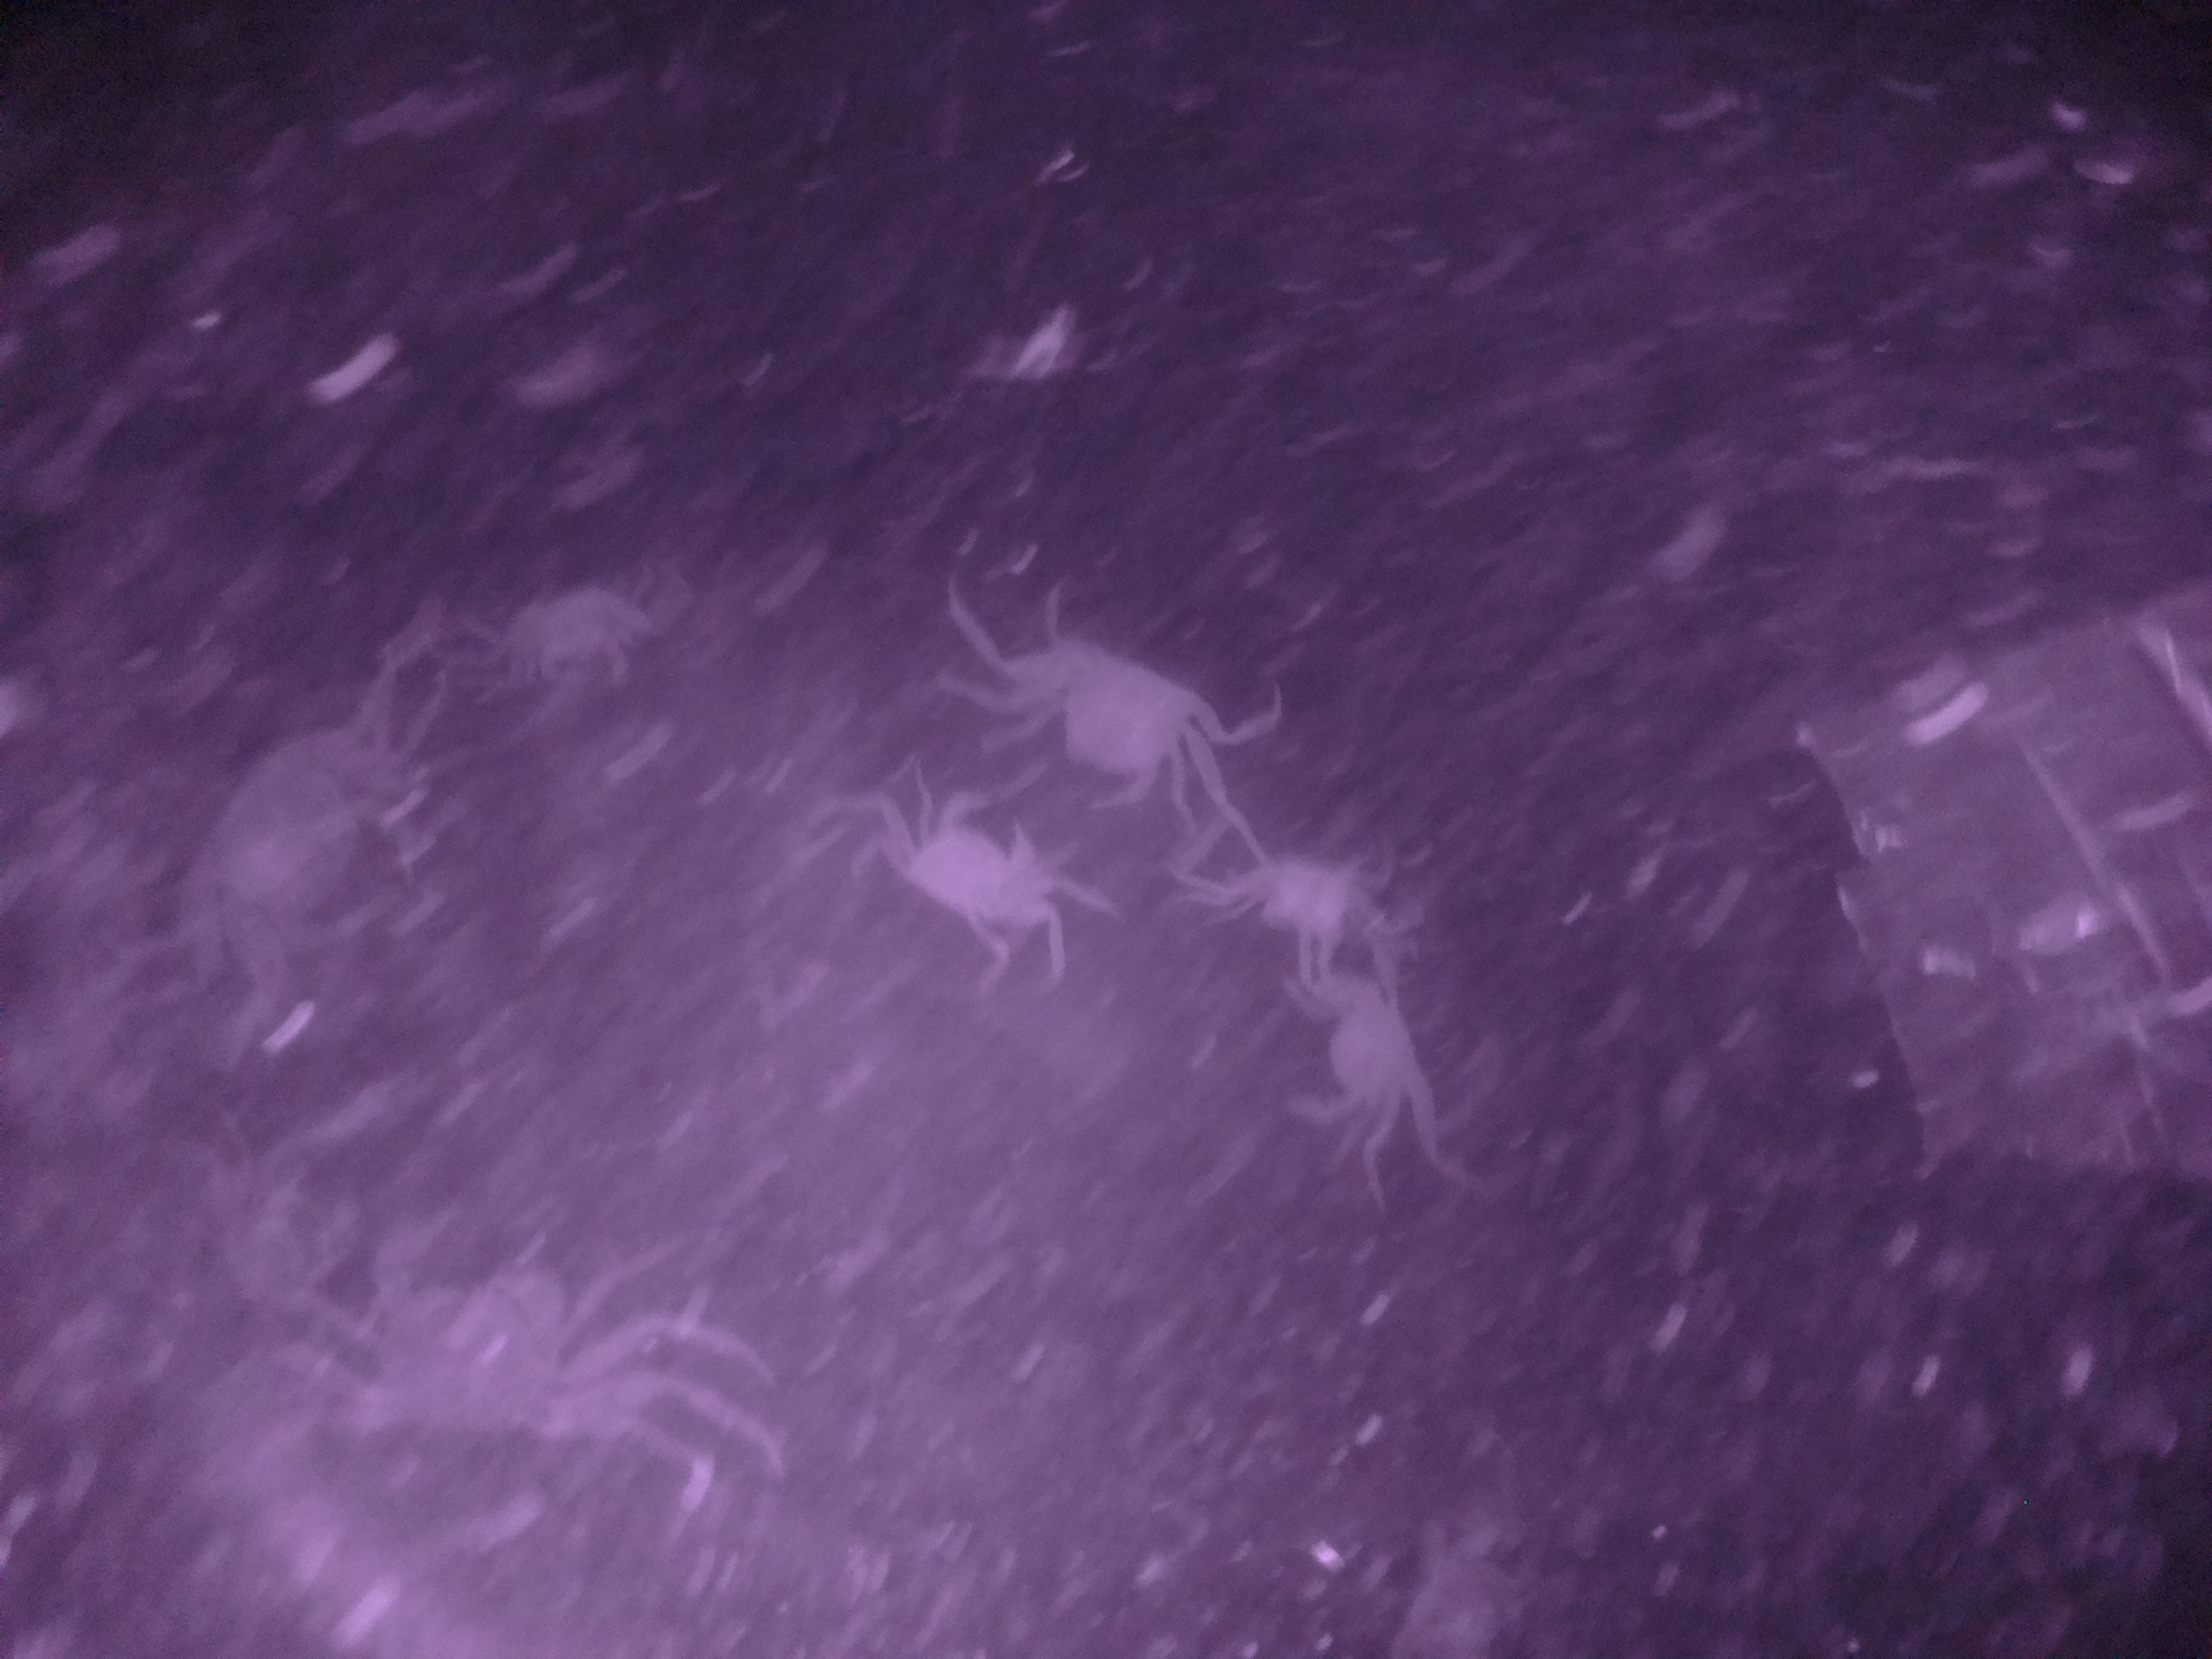Crab: (1270, 967, 1451, 1145), (888, 791, 1057, 932)
